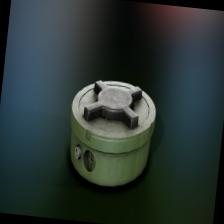PMN2: (56, 70, 169, 196)
